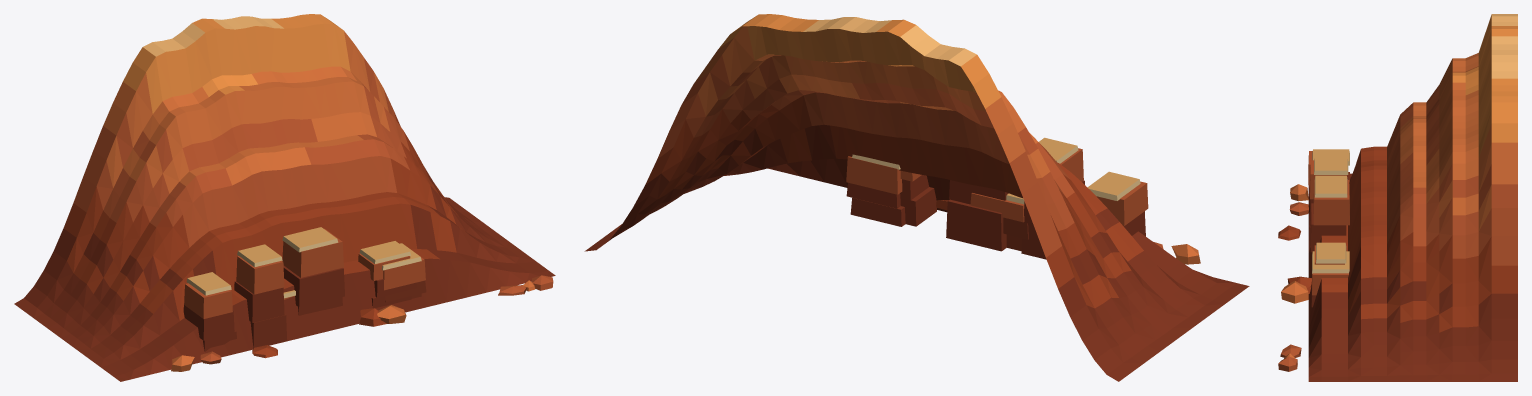
Rendered from W5_Mid_CanyonWall_B.fbx.
3 views of the same model, side by side, from view 1: azimuth 30°, elevation 25°; view 2: azimuth 150°, elevation 25°; view 3: azimuth 270°, elevation 25° (orthographic). The views are drawn at different scales.
Parts seen in each view (by area): view 1: W5_Mid_CanyonWall_B; view 2: W5_Mid_CanyonWall_B; view 3: W5_Mid_CanyonWall_B.
Boxes of the visible parts, <box> form: W5_Mid_CanyonWall_B: <box>14,14,555,381</box>; W5_Mid_CanyonWall_B: <box>584,14,1249,381</box>; W5_Mid_CanyonWall_B: <box>1278,14,1517,381</box>.
Size of the model in its own units: 132 by 69.36 by 64.19.
